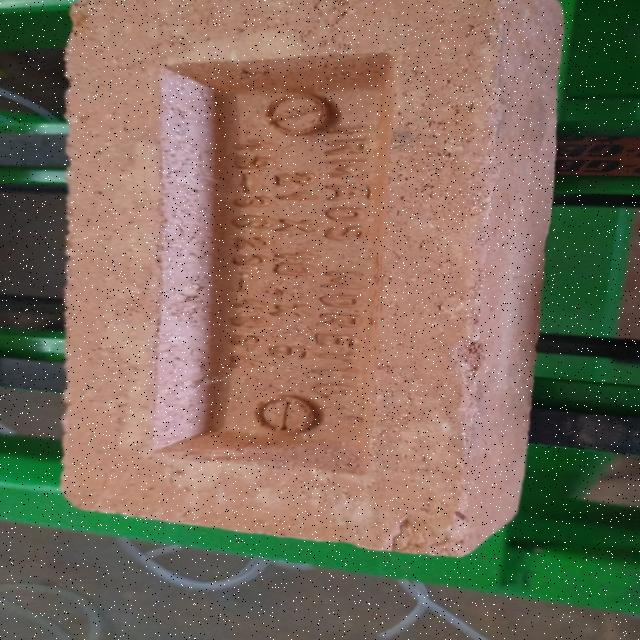bricks: (63, 0, 568, 557)
